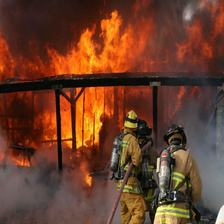fire: (1, 4, 224, 74), (4, 95, 62, 169), (62, 86, 121, 146), (158, 84, 201, 118), (73, 155, 103, 192)
